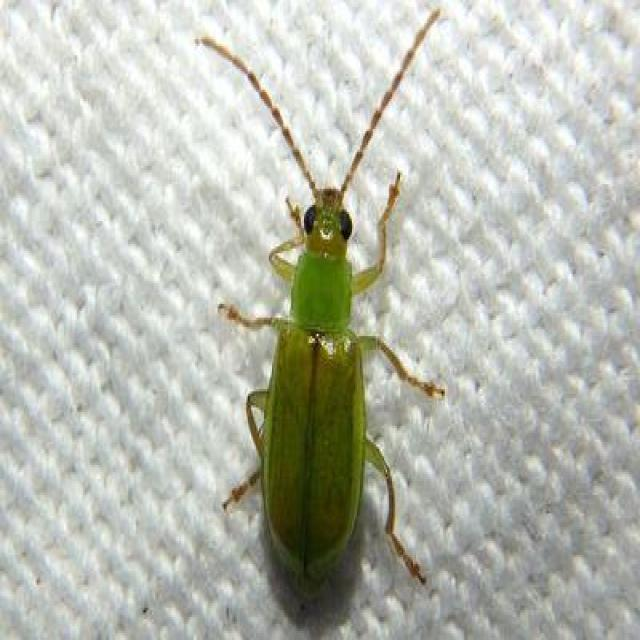gusano_gris: (196, 8, 446, 589)
